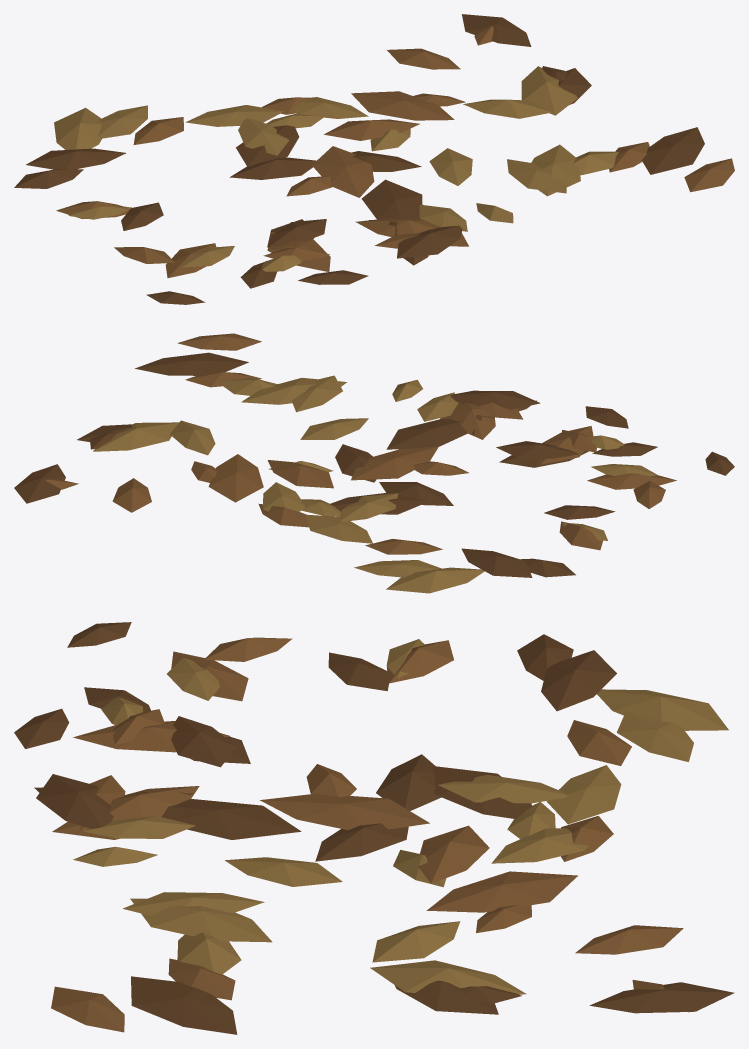
Rendered from leaf_litter.glb.
3 renders of one model, top to bottom at view 1: azimuth 30°, elevation 25°; view 2: azimuth 150°, elevation 25°; view 3: azimuth 270°, elevation 25°, orthographic. The views are drawn at different scales.
Parts seen in each view (by area): view 1: MV_leaf_litter; view 2: MV_leaf_litter; view 3: MV_leaf_litter.
Boxes of the visible parts, x1,y1,x2,y2 form: MV_leaf_litter: (14,14,734,304); MV_leaf_litter: (14,333,734,593); MV_leaf_litter: (14,622,734,1034).
Size of the model in its own units: 1.94 by 0.045 by 1.45.
